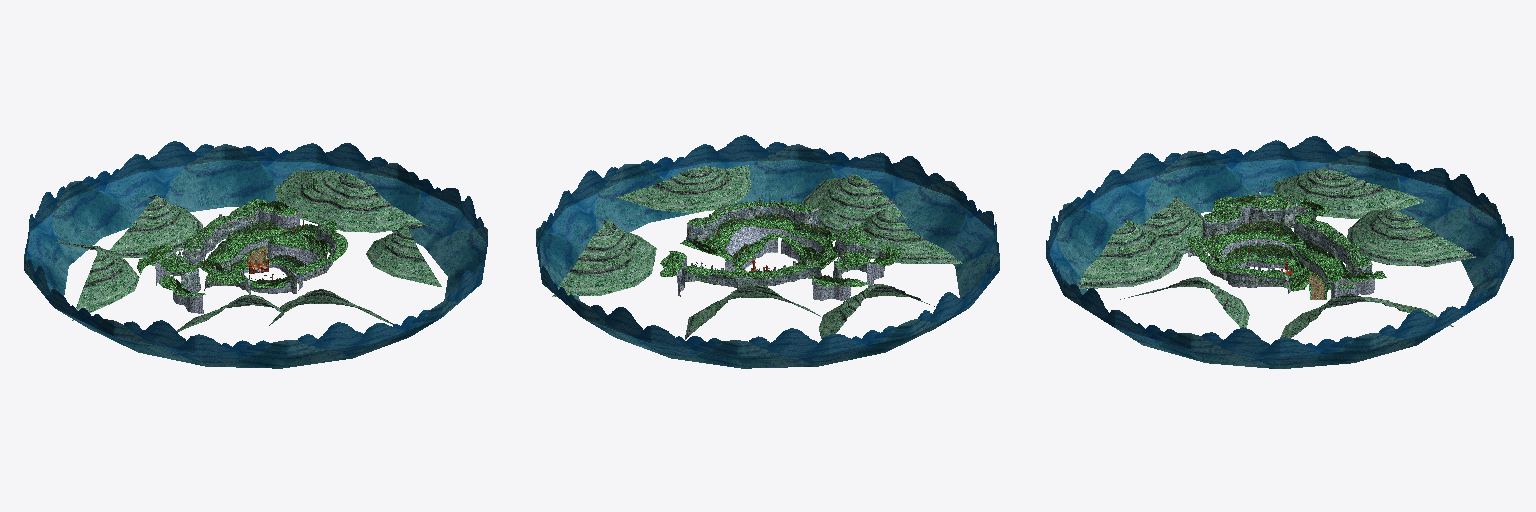
3 views of the same model, side by side, from view 1: azimuth 30°, elevation 25°; view 2: azimuth 150°, elevation 25°; view 3: azimuth 270°, elevation 25° (orthographic).
Parts seen in each view (by area): view 1: polygon16, polygon69, polygon68, polygon72, polygon71, polygon1, polygon70, polygon4, polygon0, polygon9, polygon8, polygon6 (+4 smaller); view 2: polygon16, polygon70, polygon69, polygon71, polygon1, polygon6, polygon72, polygon0, polygon4, polygon68, polygon10, polygon5 (+4 smaller); view 3: polygon16, polygon70, polygon68, polygon72, polygon1, polygon9, polygon69, polygon4, polygon71, polygon6, polygon7, polygon8 (+5 smaller).
Boxes of the visible parts, x1,y1,x2,y2 form: polygon16: [24, 141, 487, 368]; polygon69: [275, 169, 424, 232]; polygon68: [110, 195, 202, 257]; polygon72: [53, 242, 139, 320]; polygon71: [366, 223, 441, 286]; polygon1: [197, 223, 329, 287]; polygon70: [177, 289, 393, 331]; polygon4: [182, 206, 258, 267]; polygon0: [221, 239, 316, 293]; polygon9: [166, 251, 250, 294]; polygon8: [160, 254, 248, 283]; polygon6: [290, 220, 338, 293]; polygon16: [536, 135, 999, 368]; polygon70: [802, 173, 962, 263]; polygon69: [552, 220, 656, 296]; polygon71: [616, 165, 750, 212]; polygon1: [680, 219, 838, 282]; polygon6: [686, 198, 818, 240]; polygon72: [819, 284, 934, 338]; polygon0: [725, 227, 821, 271]; polygon4: [681, 256, 821, 287]; polygon68: [685, 283, 825, 339]; polygon10: [812, 251, 884, 300]; polygon5: [684, 261, 819, 278]; polygon16: [1046, 136, 1513, 368]; polygon70: [1078, 197, 1206, 288]; polygon68: [1347, 208, 1475, 266]; polygon72: [1274, 169, 1425, 218]; polygon1: [1205, 223, 1353, 299]; polygon9: [1202, 192, 1297, 238]; polygon69: [1280, 294, 1453, 337]; polygon4: [1294, 208, 1372, 273]; polygon71: [1120, 277, 1249, 327]; polygon6: [1188, 238, 1290, 293]; polygon7: [1188, 236, 1286, 277]; polygon8: [1204, 195, 1295, 221].
Bounding box in the file's own units: 19360 × 2888 × 19360.
Materials: 34 (34 with a texture image).